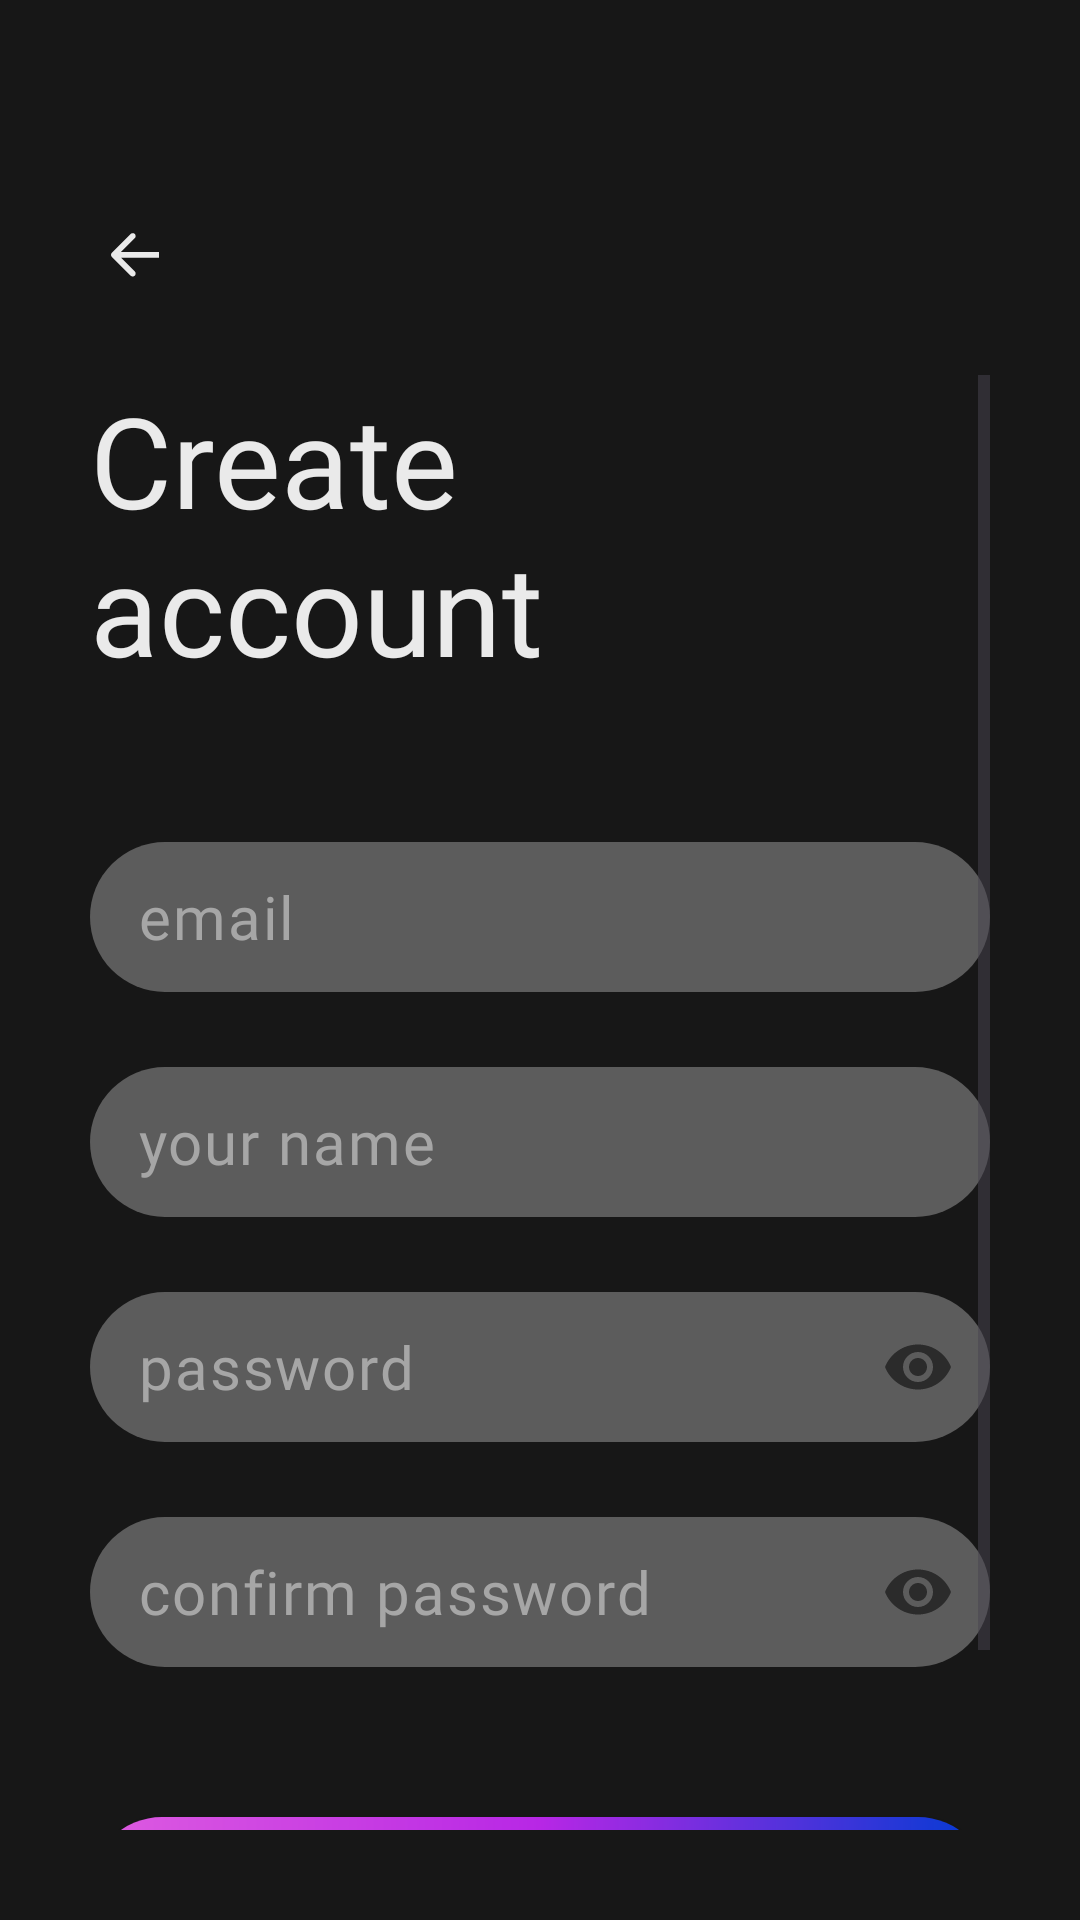

Screen size 1080 x 1920. Icon name, then its box in pixels as (x1,y1,x2,y2):
arrow: (111,233,159,277)
